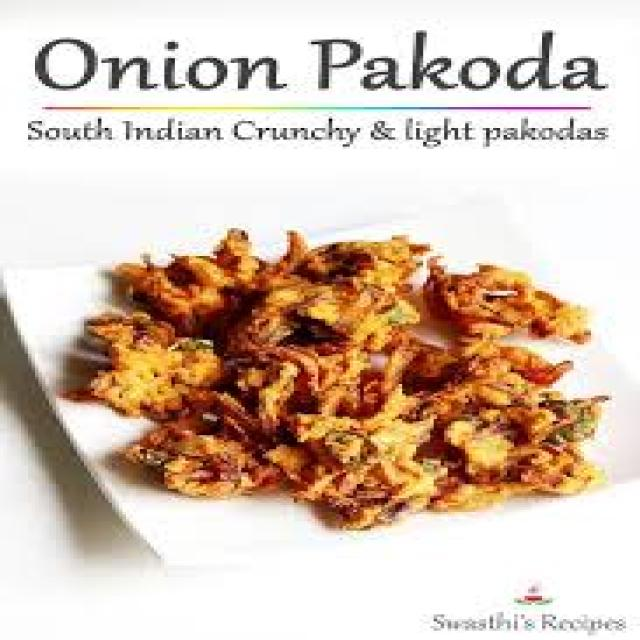BAJI: (65, 226, 608, 535)
